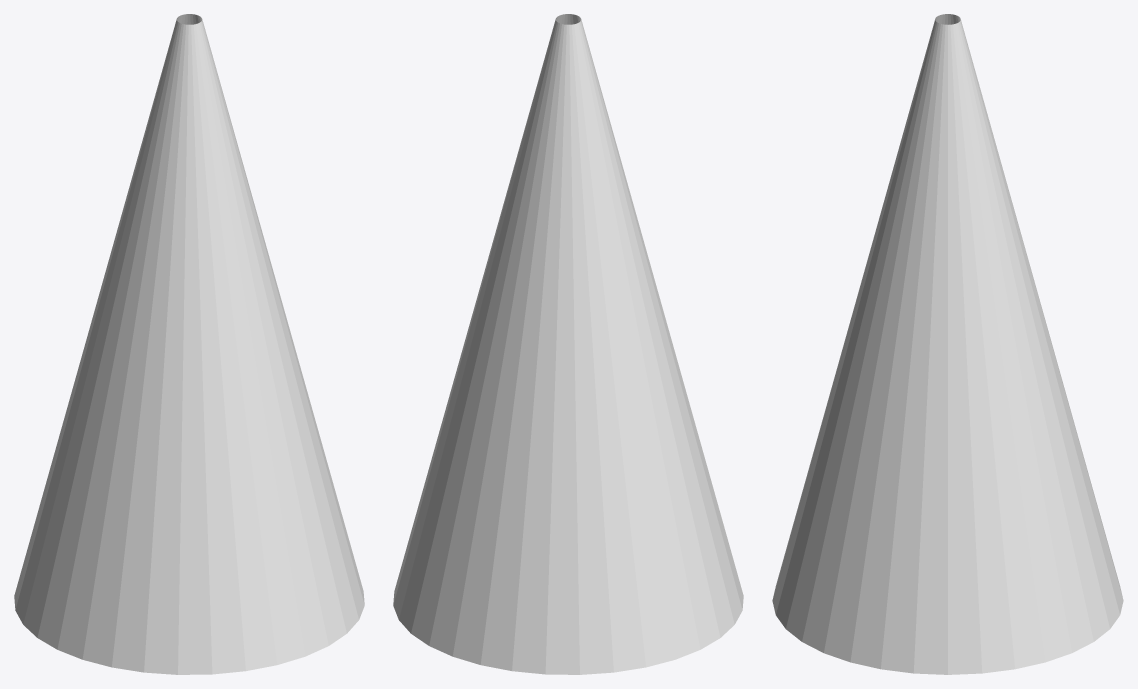
3 renders of one model, left to right at view 1: azimuth 30°, elevation 25°; view 2: azimuth 150°, elevation 25°; view 3: azimuth 270°, elevation 25°, orthographic.
Parts seen in each view (by area): view 1: Cone; view 2: Cone; view 3: Cone.
Part boxes in pixels (left/top/right/bottom): Cone: left=14, top=14, right=364, bottom=674; Cone: left=393, top=14, right=743, bottom=674; Cone: left=772, top=14, right=1123, bottom=674.
Bounding box in the file's own units: 2.74 × 5 × 2.74.
Materials: 1 (1 with a texture image).
